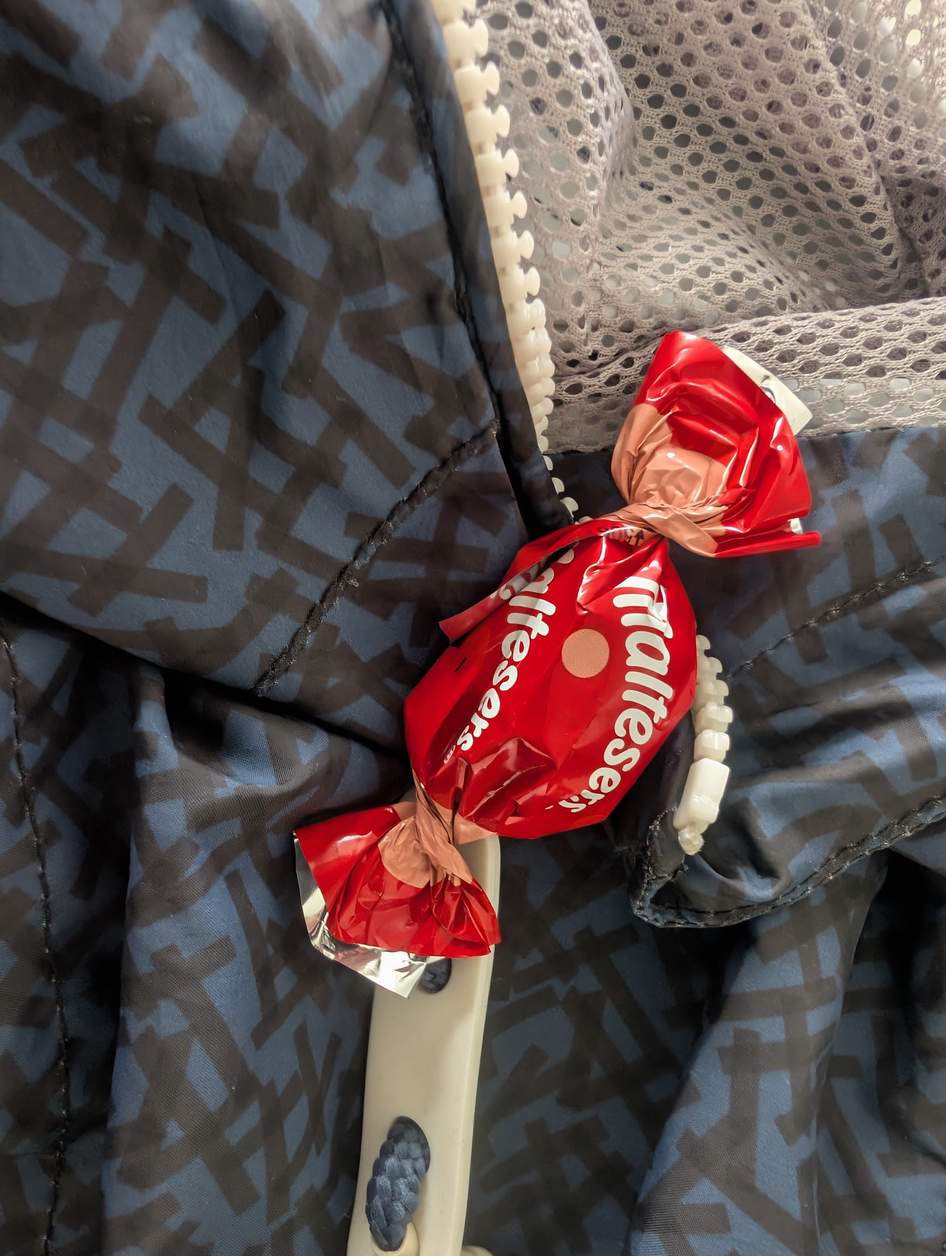Maltesers: (289, 321, 816, 996)
